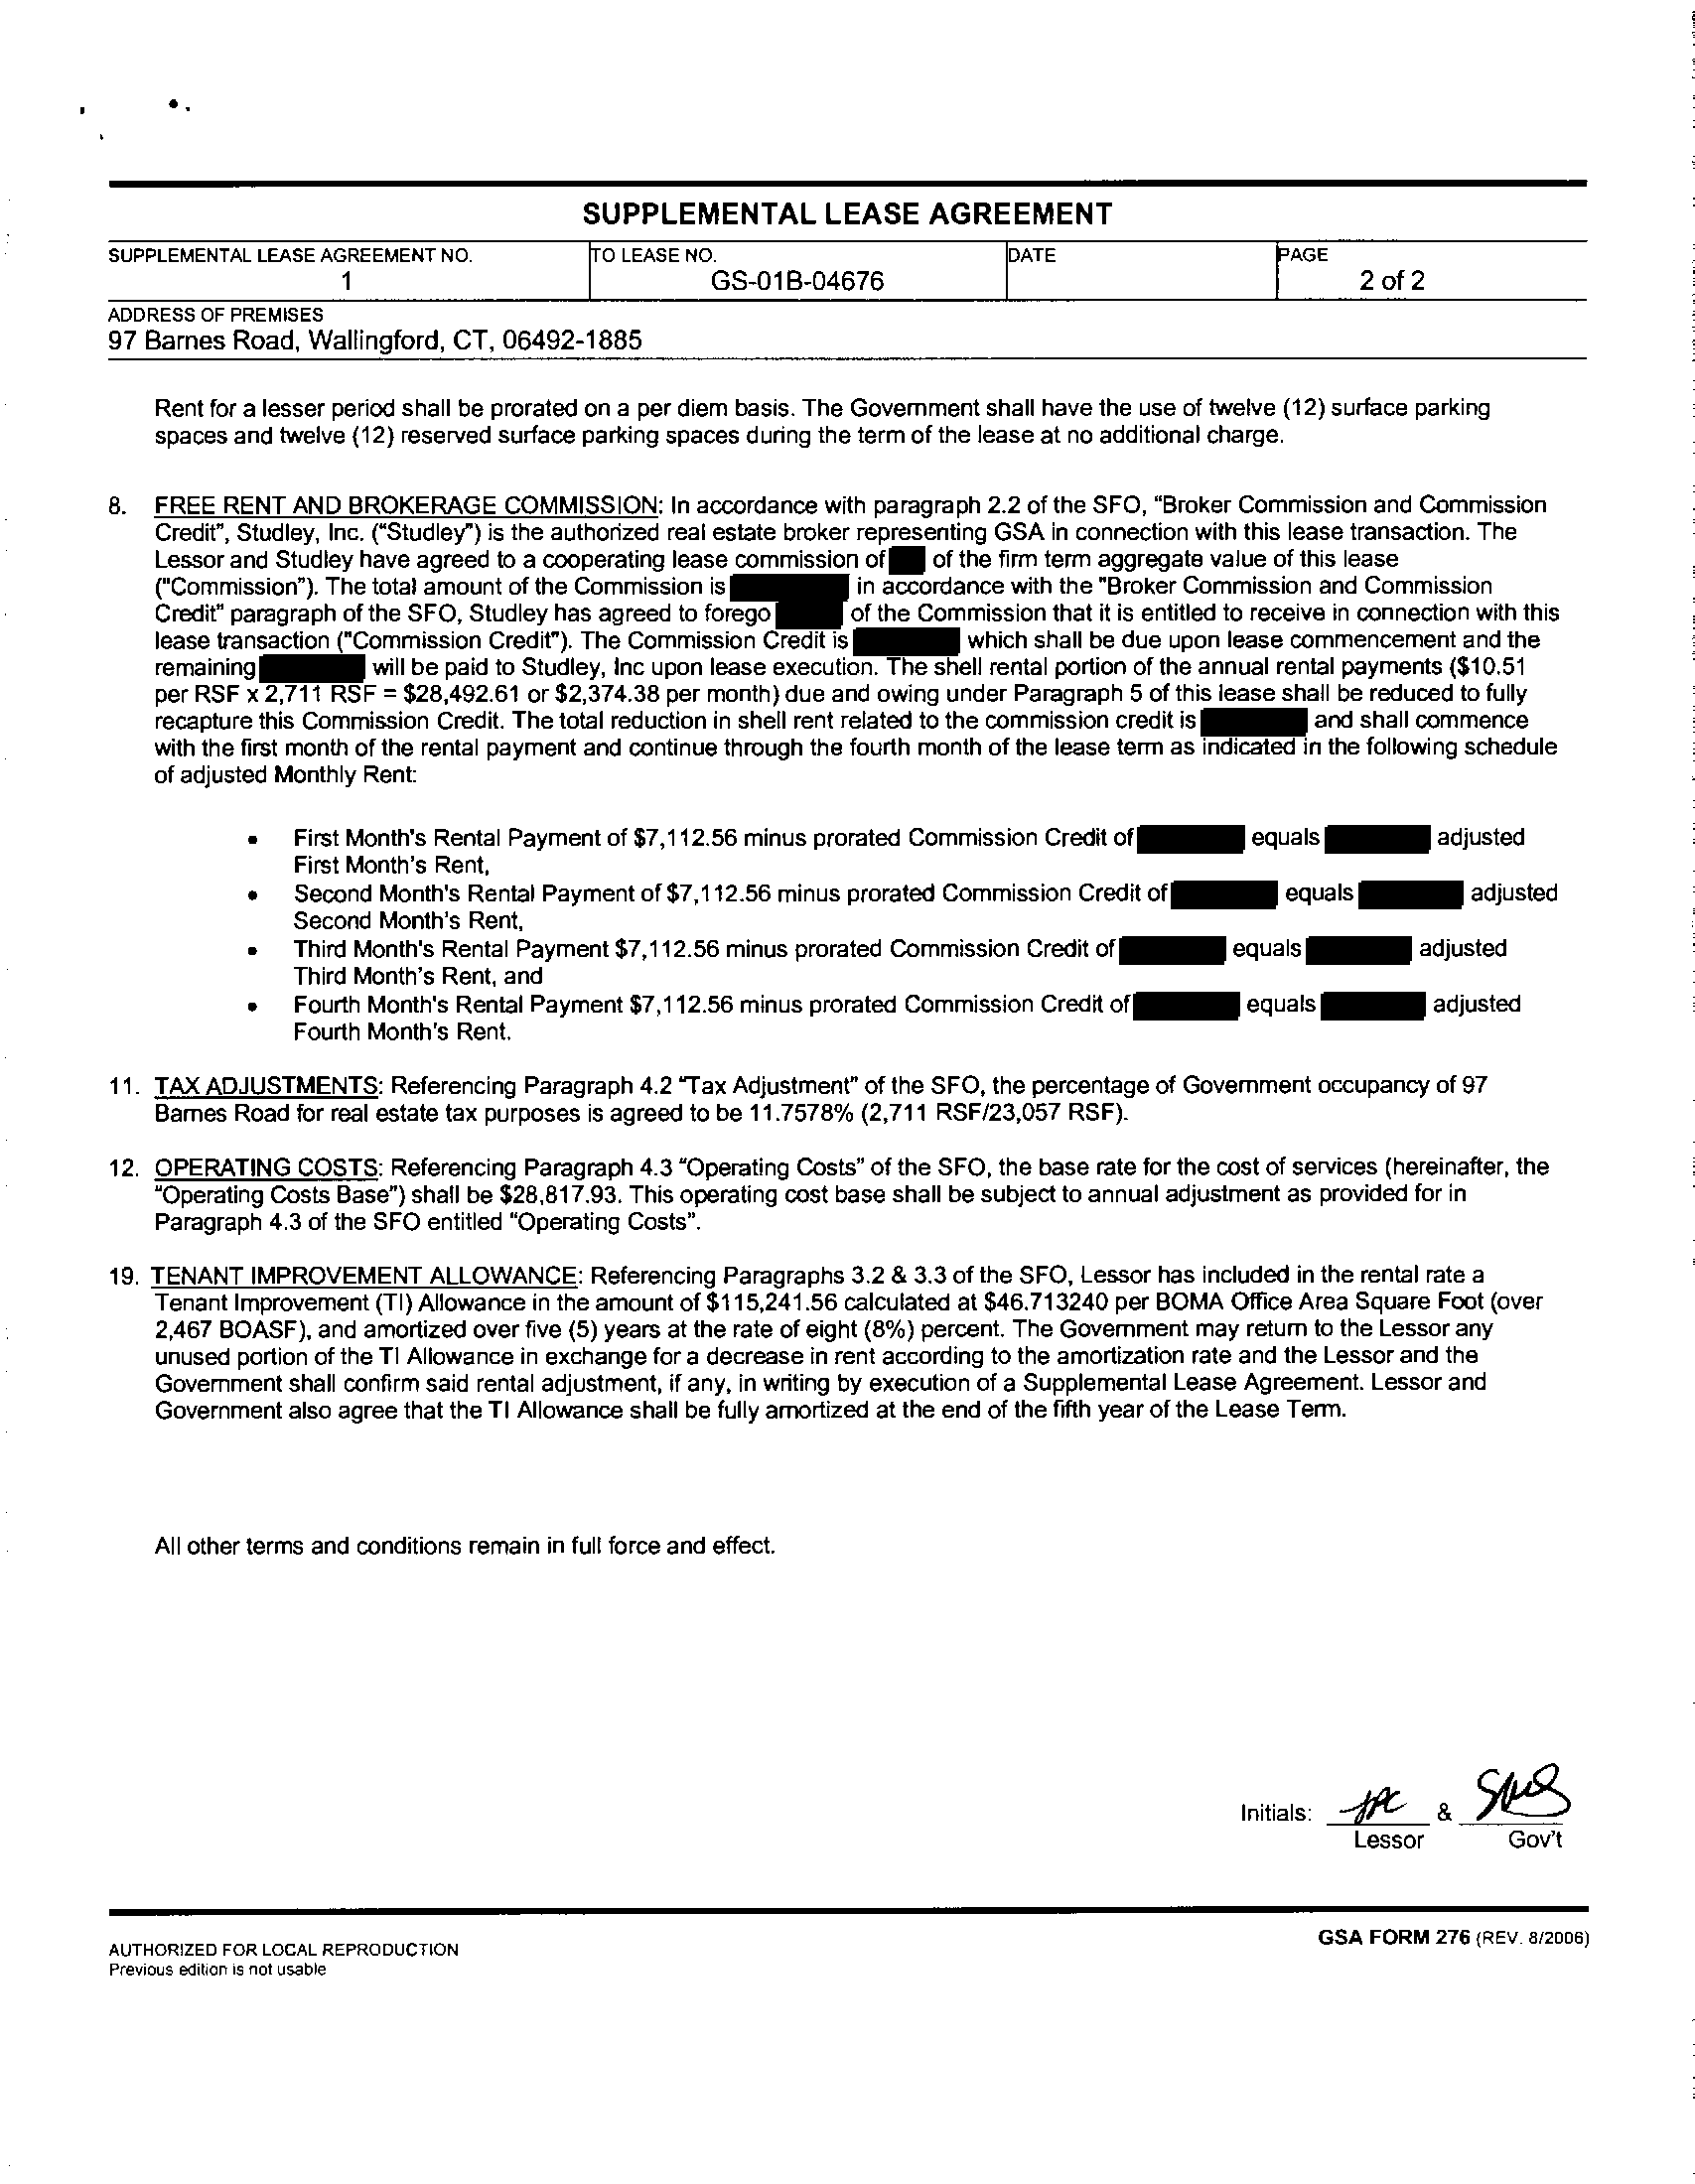handwritten: (1461, 1739, 1594, 1833), (1346, 1776, 1418, 1831)
